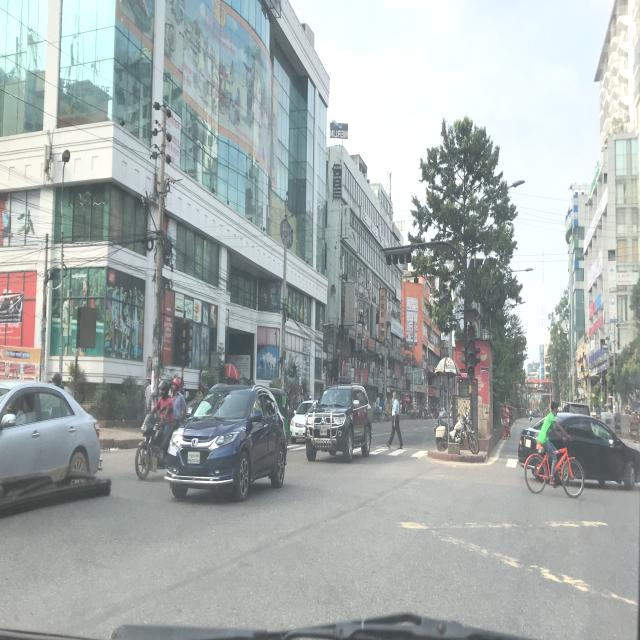black: (518, 411, 640, 483), (305, 385, 370, 457)
blue: (165, 384, 288, 493)
silver: (0, 384, 101, 477)
white: (291, 400, 316, 439)
